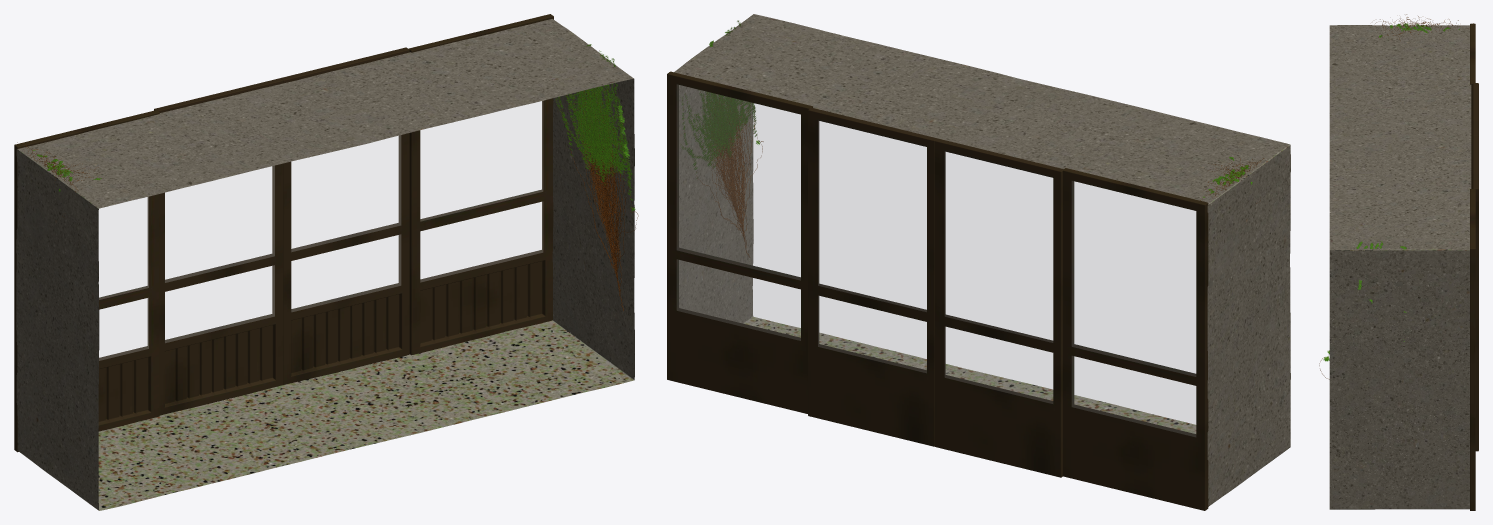
The model's file is RoomWithIvy-transformed.glb.
3 views of the same model, side by side, from view 1: azimuth 30°, elevation 25°; view 2: azimuth 150°, elevation 25°; view 3: azimuth 270°, elevation 25° (orthographic). The views are drawn at different scales.
Parts seen in each view (by area): view 1: Wall, door frame (×2), door frame.001 (×2), top mirror (×2), top mirror.001 (×2), bottom mirro (×2), bottom mirro.001 (×2), IvyLeaf, IVY_Curve; view 2: Wall, top mirror.001 (×2), door frame.001 (×2), top mirror (×2), door frame (×2), bottom mirro.001 (×2), bottom mirro (×2), IvyLeaf, IVY_Curve; view 3: Wall, door frame.001 (×2), door frame (×2), IVY_Curve.001, IvyLeaf, IvyLeaf.001.
Boxes of the visible parts, x1,y1,x2,y2 form: Wall: [16, 19, 634, 510]; door frame (×2): [154, 47, 409, 415]; door frame.001 (×2): [14, 14, 553, 452]; top mirror (×2): [165, 135, 400, 282]; top mirror.001 (×2): [99, 101, 542, 299]; bottom mirro (×2): [165, 235, 400, 342]; bottom mirro.001 (×2): [99, 202, 542, 360]; IvyLeaf: [555, 44, 635, 211]; IVY_Curve: [559, 45, 638, 310]; Wall: [674, 14, 1290, 506]; top mirror.001 (×2): [677, 85, 1195, 376]; door frame.001 (×2): [667, 71, 1208, 510]; top mirror (×2): [818, 121, 1052, 342]; door frame (×2): [808, 107, 1063, 477]; bottom mirro.001 (×2): [677, 259, 1195, 436]; bottom mirro (×2): [818, 296, 1052, 403]; IvyLeaf: [681, 20, 759, 178]; IVY_Curve: [682, 21, 763, 257]; Wall: [1329, 25, 1471, 509]; door frame.001 (×2): [1470, 23, 1475, 510]; door frame (×2): [1473, 83, 1478, 451]; IVY_Curve.001: [1375, 14, 1473, 40]; IvyLeaf: [1323, 241, 1406, 361]; IvyLeaf.001: [1379, 23, 1459, 37].
Bounding box in the file's own units: 6.17 × 3.43 × 1.83.
Materials: 7 (5 with a texture image).
